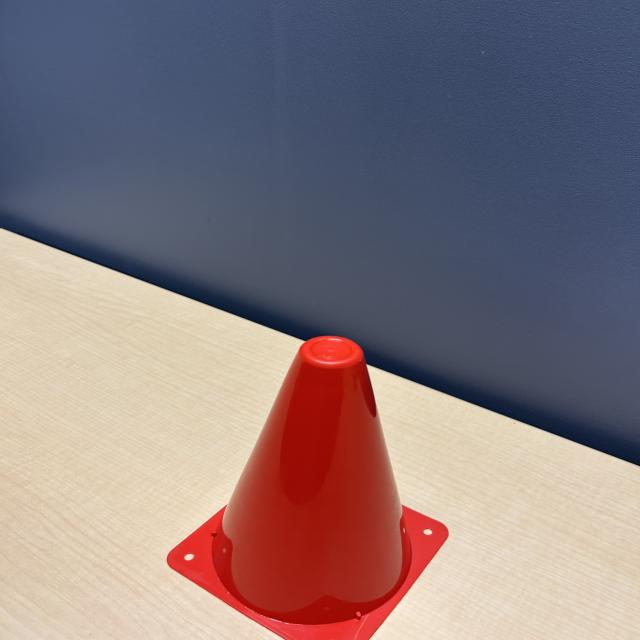orange cone: (163, 318, 460, 640)
